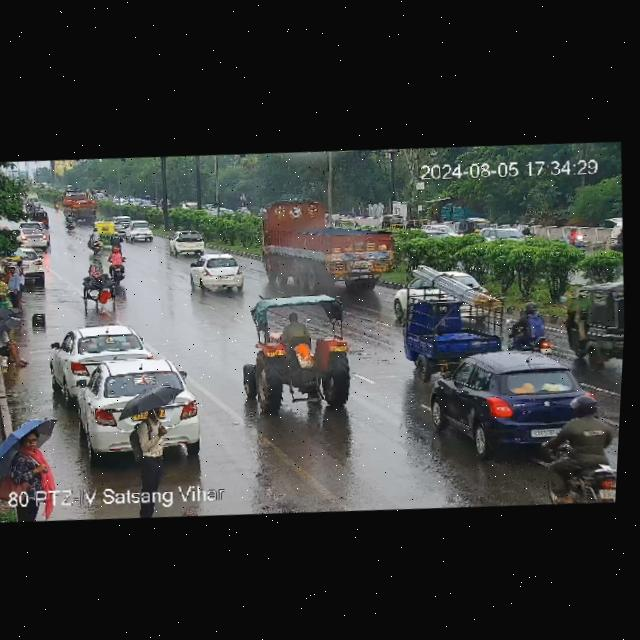car: (443, 344, 601, 455), (79, 358, 206, 454), (401, 289, 503, 371), (46, 325, 152, 402), (560, 279, 627, 368), (73, 255, 119, 312), (191, 249, 245, 294), (7, 249, 49, 287), (476, 224, 532, 250), (12, 222, 53, 249), (165, 229, 205, 253), (131, 219, 152, 243), (96, 220, 115, 241)
motorcycle: (551, 398, 620, 503), (505, 301, 557, 357), (100, 241, 130, 287), (86, 226, 100, 254)
person: (131, 404, 171, 488), (4, 428, 52, 490), (58, 185, 103, 225), (0, 323, 29, 374), (3, 261, 27, 308)
truck: (233, 288, 357, 418), (254, 192, 403, 292)
